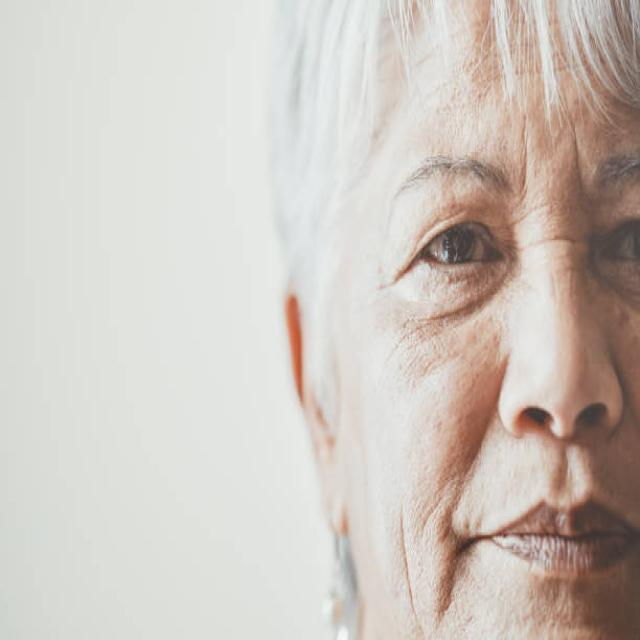dry: (330, 301, 474, 609)
